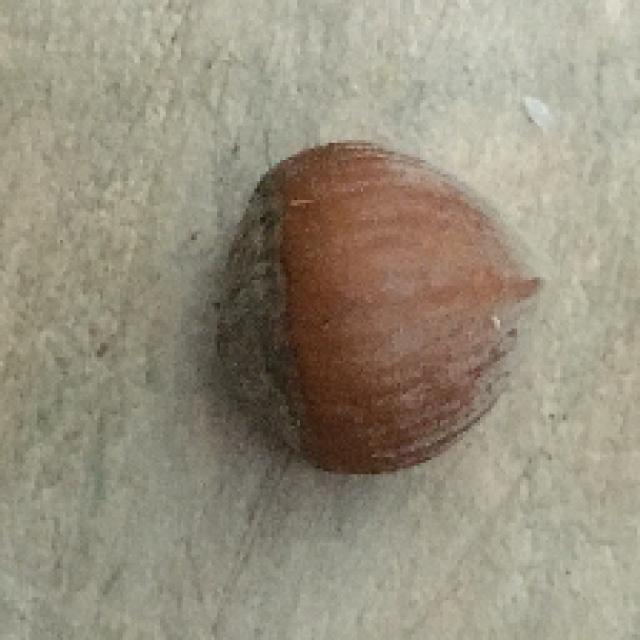qualityHazelnut: (208, 138, 556, 485)
